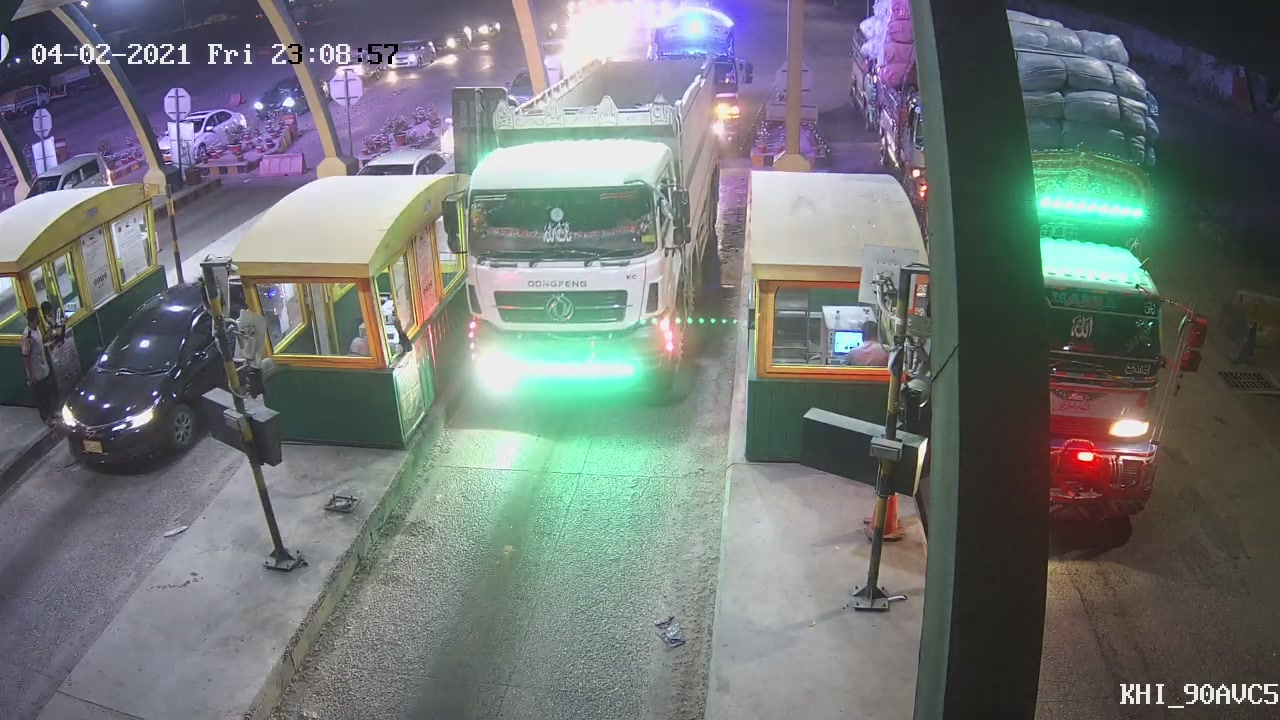F5: (436, 54, 717, 399)
